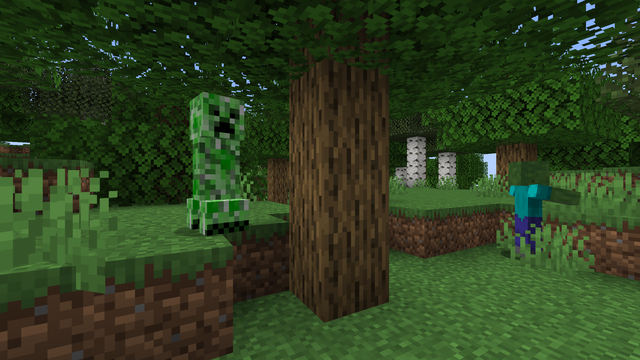creepers: (189, 83, 246, 235)
zombies: (504, 163, 551, 263)
